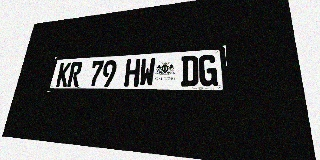7: (88, 60, 104, 87)
9: (101, 60, 117, 87)
D: (181, 55, 198, 86)
G: (199, 54, 218, 86)
H: (124, 58, 141, 87)
K: (56, 62, 71, 87)
R: (67, 62, 83, 87)
W: (139, 58, 156, 87)
